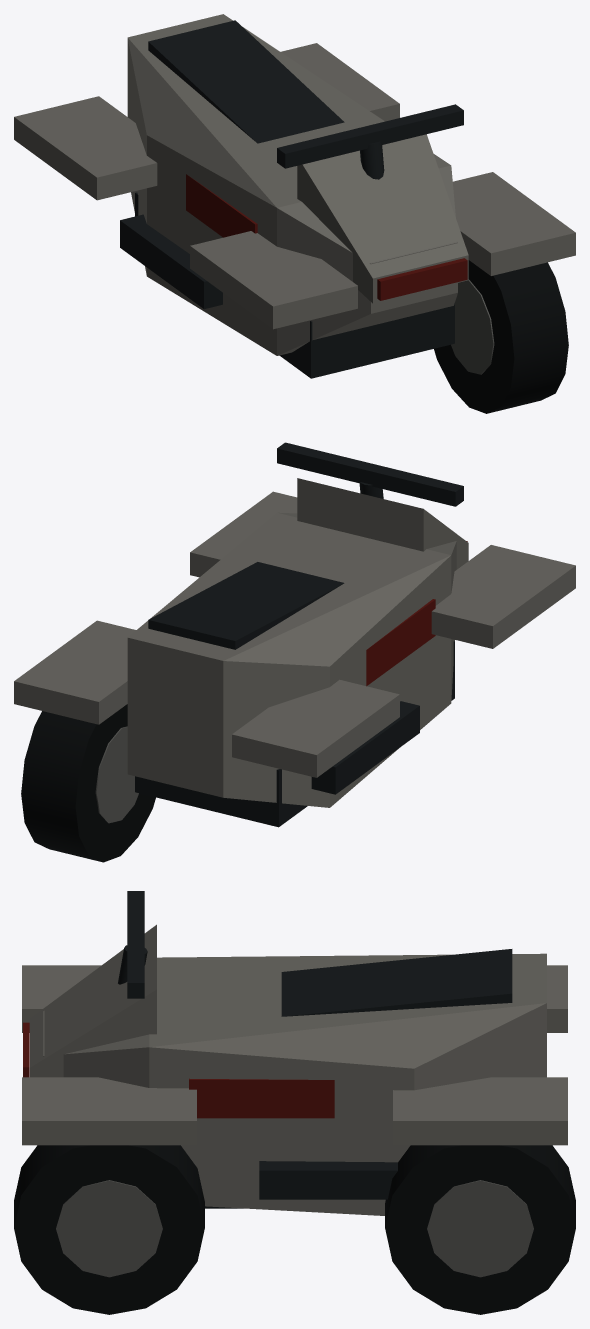
3 views of the same model, one above another, from view 1: azimuth 30°, elevation 25°; view 2: azimuth 150°, elevation 25°; view 3: azimuth 270°, elevation 25° (orthographic). The views are drawn at different scales.
Parts seen in each view (by area): view 1: atv-fleet-armor, atv-fleet-machine, wheel-1-0.7-fleet-rubber, steering-fleet-machine, atv-fleet-red, wheel-1-0.7-fleet-edge; view 2: atv-fleet-armor, atv-fleet-machine, wheel-1--0.7-fleet-rubber, steering-fleet-machine, wheel-1--0.7-fleet-edge, atv-fleet-red; view 3: atv-fleet-armor, wheel-1-0.7-fleet-rubber, wheel-1--0.7-fleet-rubber, atv-fleet-machine, wheel-1--0.7-fleet-edge, wheel-1-0.7-fleet-edge, atv-fleet-red, steering-fleet-machine.
Boxes of the visible parts, <box> form: atv-fleet-armor: <box>14,14,575,355</box>; atv-fleet-machine: <box>120,20,454,378</box>; wheel-1-0.7-fleet-rubber: <box>434,260,568,413</box>; steering-fleet-machine: <box>277,104,463,179</box>; atv-fleet-red: <box>186,174,467,300</box>; wheel-1-0.7-fleet-edge: <box>451,279,494,374</box>; atv-fleet-armor: <box>14,478,575,807</box>; atv-fleet-machine: <box>135,562,454,827</box>; wheel-1--0.7-fleet-rubber: <box>21,704,155,862</box>; steering-fleet-machine: <box>277,442,463,506</box>; wheel-1--0.7-fleet-edge: <box>95,726,138,823</box>; atv-fleet-red: <box>366,541,467,686</box>; atv-fleet-armor: <box>22,924,567,1215</box>; wheel-1-0.7-fleet-rubber: <box>14,1145,204,1314</box>; wheel-1--0.7-fleet-rubber: <box>385,1145,575,1314</box>; atv-fleet-machine: <box>205,949,512,1208</box>; wheel-1--0.7-fleet-edge: <box>427,1180,533,1277</box>; wheel-1-0.7-fleet-edge: <box>56,1180,162,1277</box>; atv-fleet-red: <box>23,1022,334,1118</box>; steering-fleet-machine: <box>118,891,147,998</box>.
Size of the model in its own units: 7.59 by 6.95 by 11.58.
